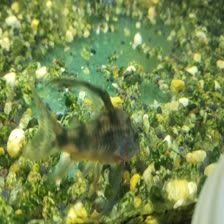Kiros: (22, 66, 159, 206)
